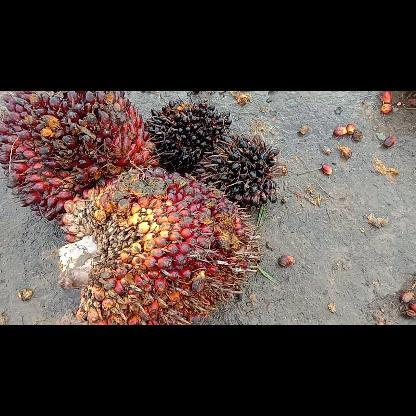TBS abnormal: (192, 129, 286, 209), (142, 96, 235, 176)
TBS masak: (55, 162, 262, 324), (0, 90, 158, 226)
